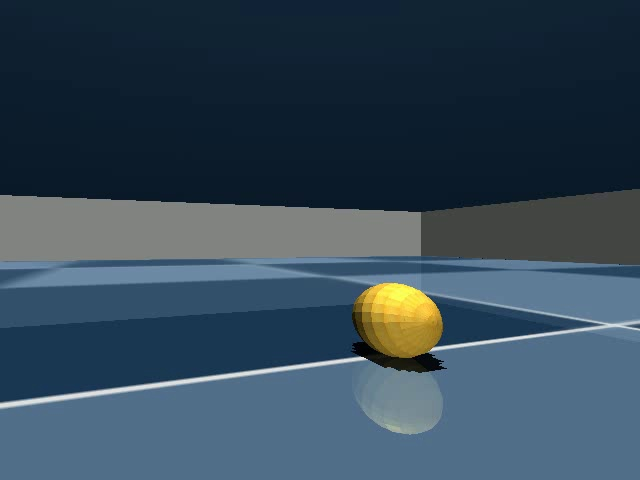lemon: (345, 277, 450, 369)
